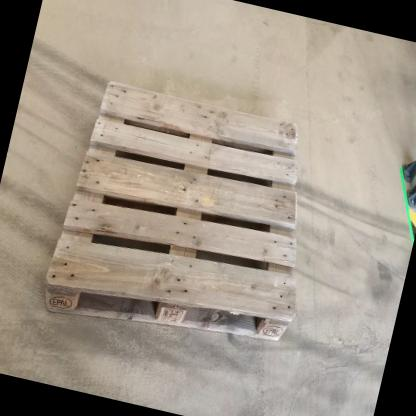BoxFace: (36, 72, 302, 357)
